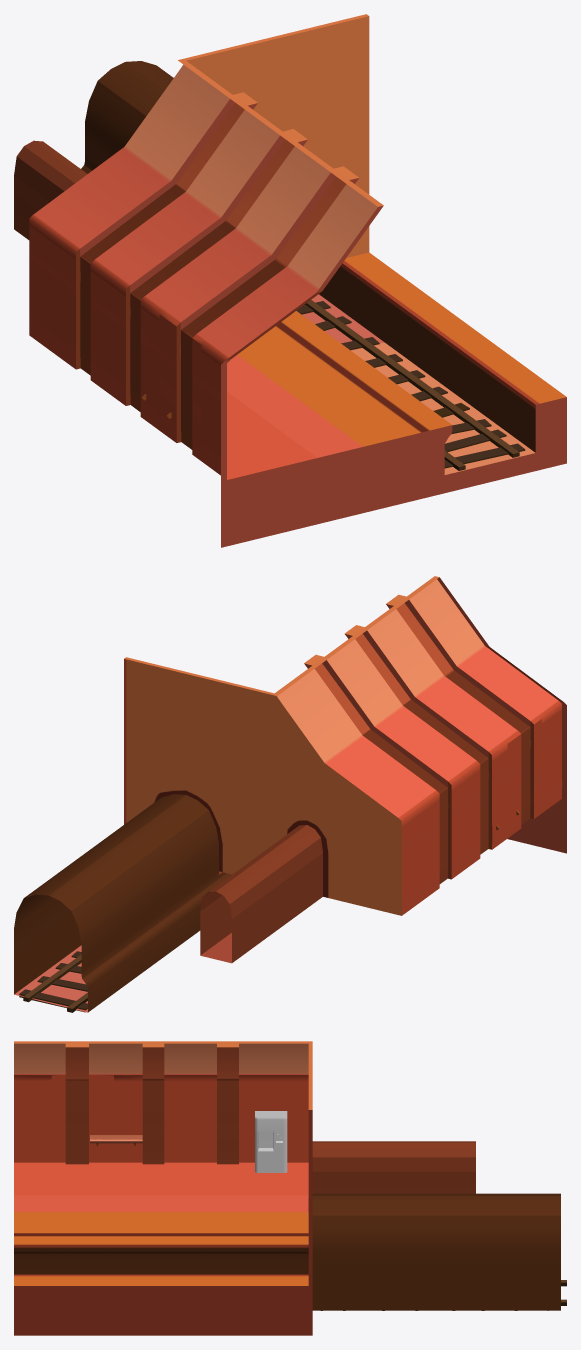
Rendered from station 6.fbx.
3 views of the same model, one above another, from view 1: azimuth 30°, elevation 25°; view 2: azimuth 150°, elevation 25°; view 3: azimuth 270°, elevation 25° (orthographic). The views are drawn at different scales.
Parts seen in each view (by area): view 1: env_6, track_5; view 2: env_6, track_5; view 3: env_6, ticket_machine1, pCube78.
Part boxes in pixels (box(x1,y1,x2,y2)): env_6: box(14, 14, 566, 547); track_5: box(296, 300, 525, 470); env_6: box(14, 576, 566, 1012); track_5: box(19, 951, 87, 1012); env_6: box(14, 1041, 560, 1335); ticket_machine1: box(255, 1111, 287, 1172); pCube78: box(90, 1135, 142, 1146).
Bounding box in the file's own units: 20.01 × 16.74 × 37.19.
